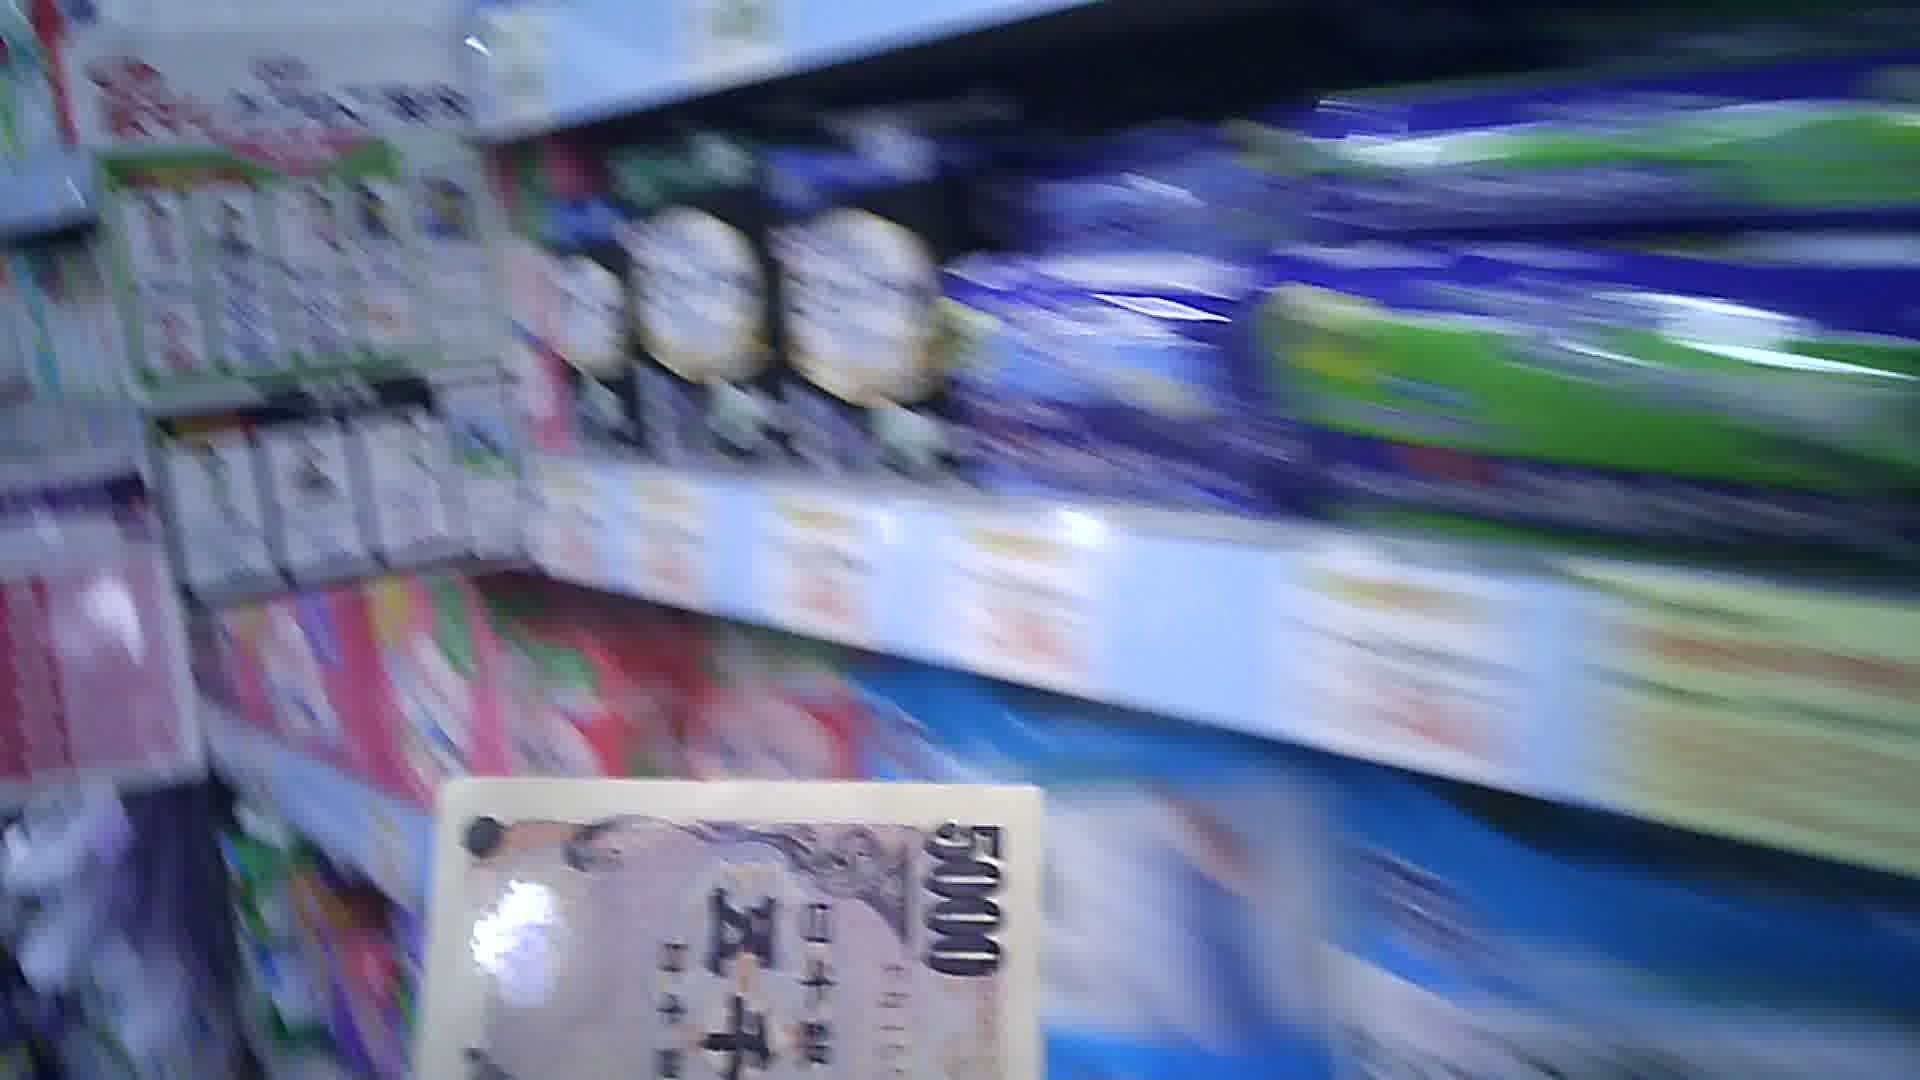5,000 Yen: (410, 761, 1022, 1079)
